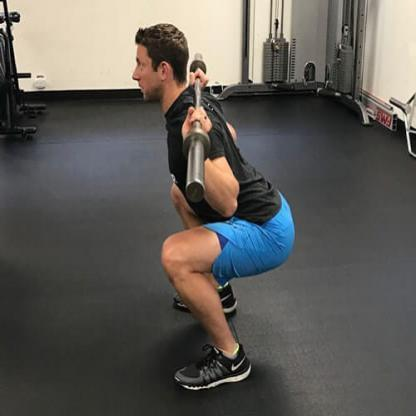Barbell: (185, 179, 209, 206)
